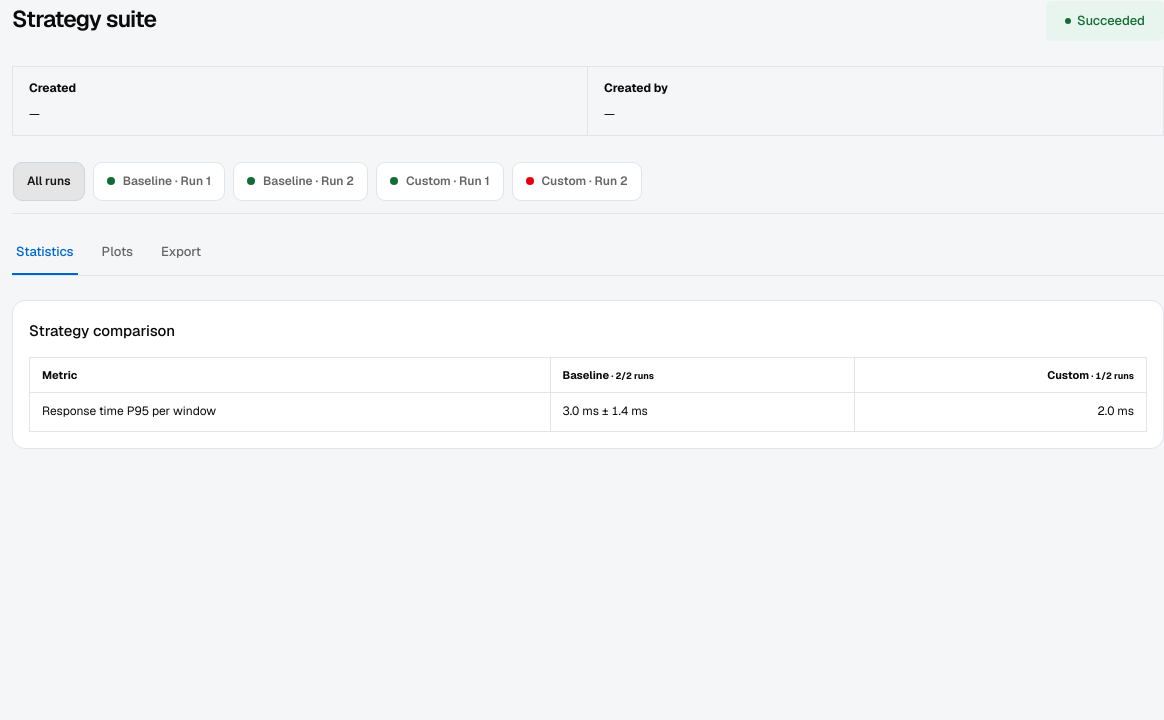
focused experiment results › compares strategies with unequal run counts and keeps individual details in their tabs
Expected: the table named "Strategy comparison" shows "3.0 ms ± 1.4 ms", [29, 357, 1147, 432]
Expected: the table named "Strategy comparison" shows "2.0 ms", [1098, 403, 1134, 419]
Step 1. Click the button "Custom · Run 1" → (440, 181), box [376, 162, 504, 201]
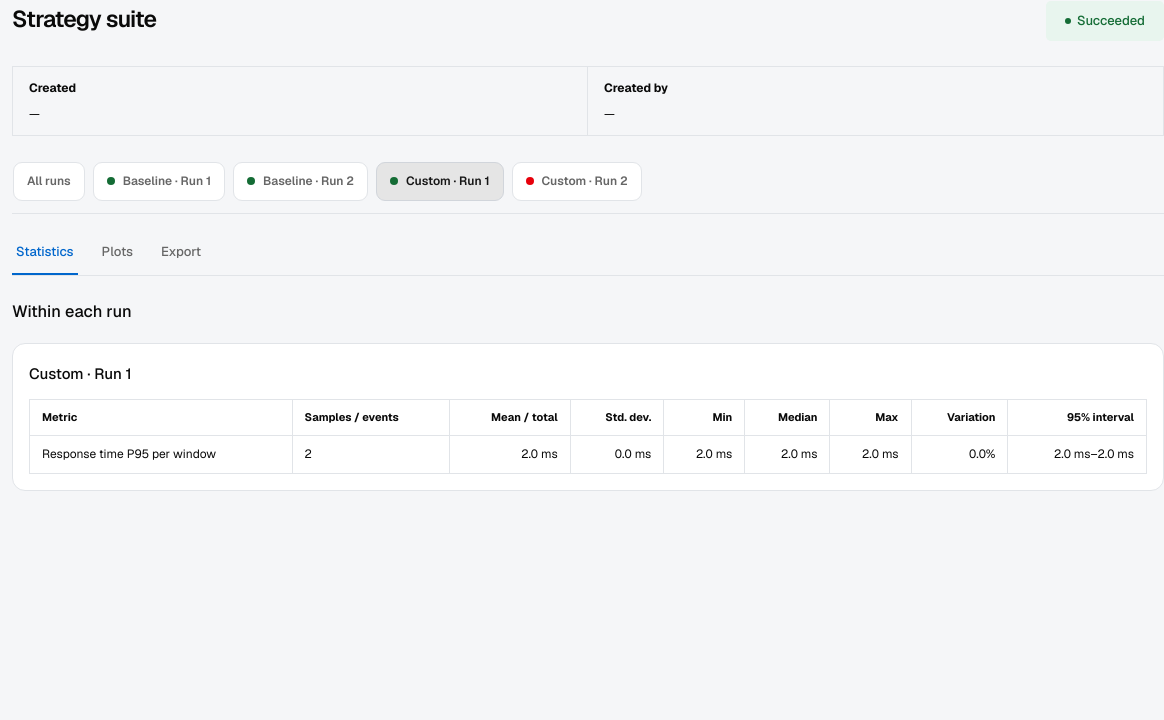
Expected: the table named "Statistics for Custom · Run 1" shows "2.0 ms", [521, 446, 558, 462]
Expected: the heading "Strategy comparison" is gone
